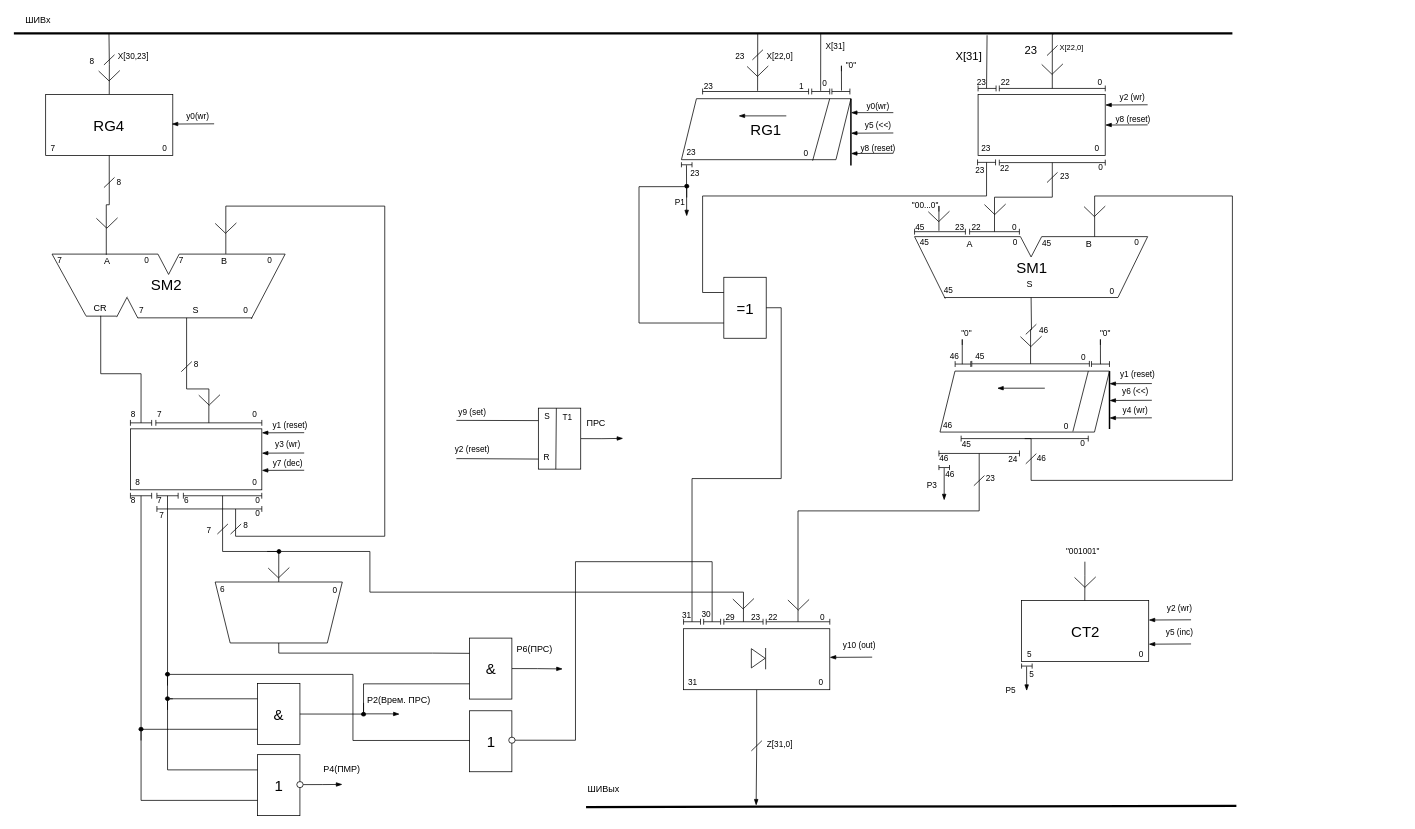
This 1415x829 diagram has some shape labels left out. The shapes that lost their labels are listed below. From the top down, each one's box as (x1, y1, x2, y2) in pixels, then its label:
(977, 94, 1105, 155): RG2
(939, 370, 1109, 432): RG3
(130, 428, 262, 490): CT1
(214, 581, 342, 643): КС1(1)
